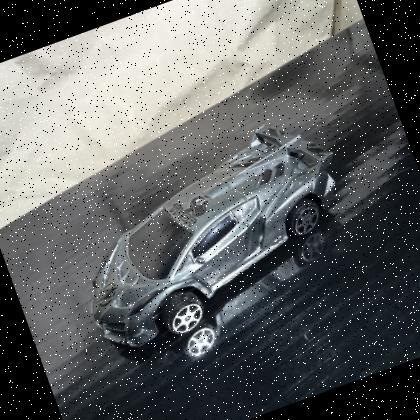Car: (43, 97, 382, 368)
